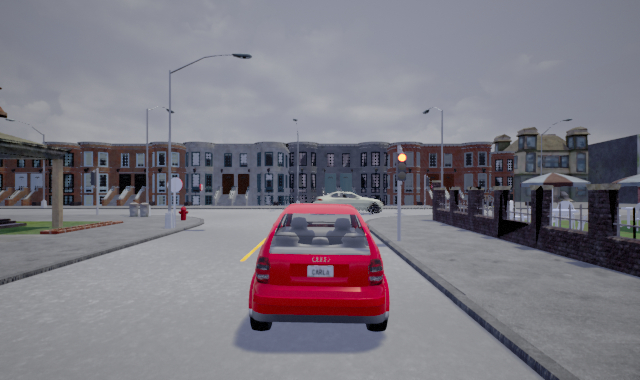traffic_light: (397, 152, 408, 182)
vehicle: (246, 202, 392, 333), (313, 191, 385, 215)
